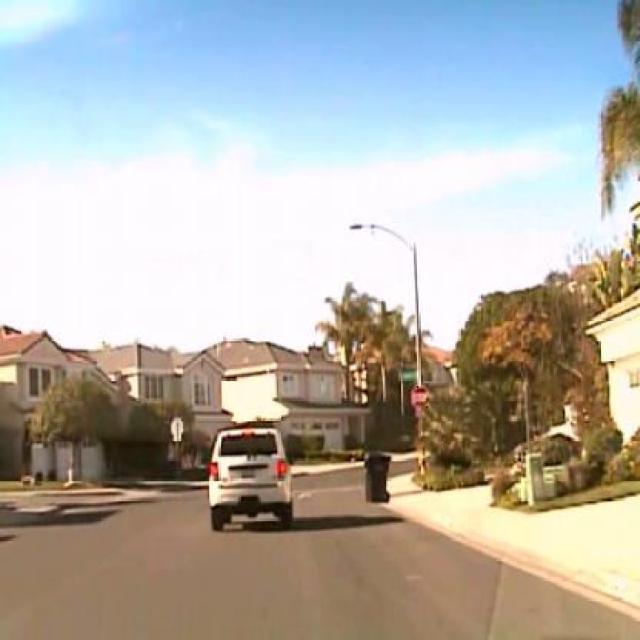stop: (409, 385, 430, 412)
